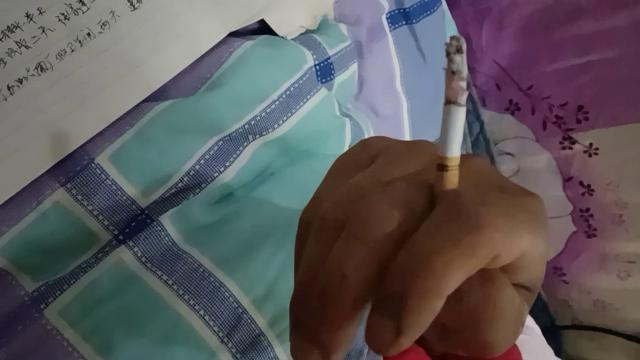Cigarette: (431, 34, 471, 246)
